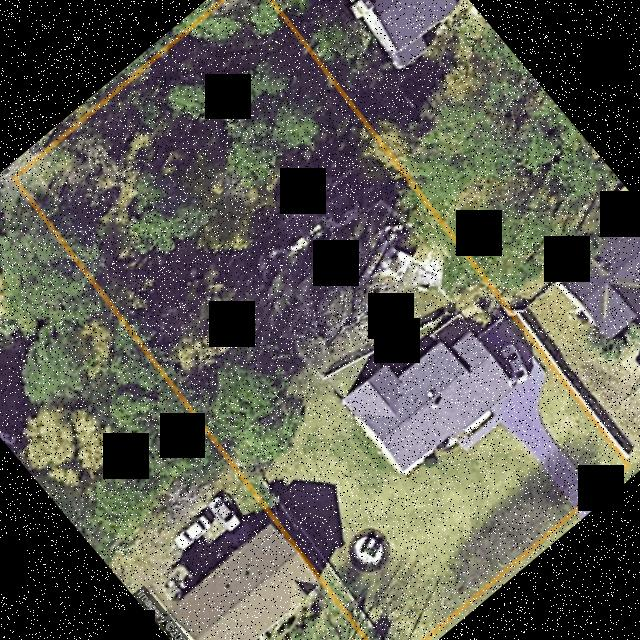Driveway: (477, 316, 592, 504)
House: (340, 321, 512, 475)
Other: (348, 527, 390, 571)
